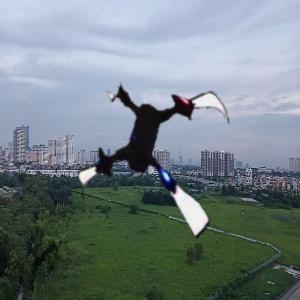drone: (69, 68, 250, 249)
